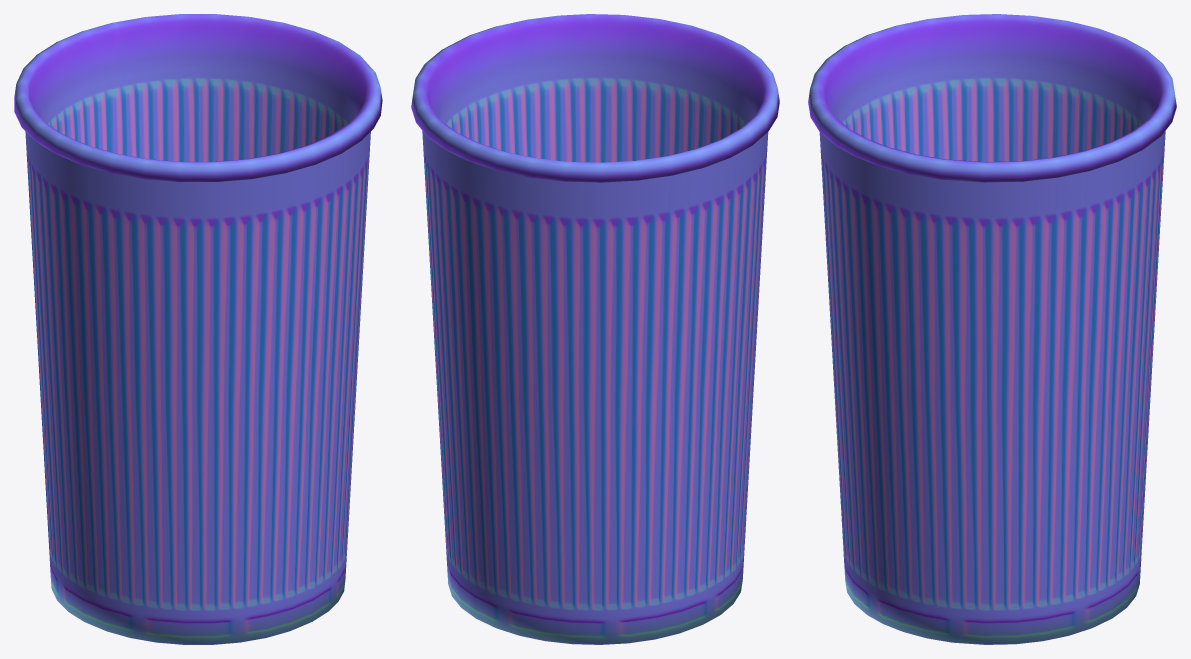
The model's file is Plastic_Cup.obj.
3 views of the same model, side by side, from view 1: azimuth 30°, elevation 25°; view 2: azimuth 150°, elevation 25°; view 3: azimuth 270°, elevation 25° (orthographic).
Visible parts, largest first — view 1: Plastic_Cup_plastic_cup_Lowpoly; view 2: Plastic_Cup_plastic_cup_Lowpoly; view 3: Plastic_Cup_plastic_cup_Lowpoly.
Boxes of the visible parts, x1,y1,x2,y2 form: Plastic_Cup_plastic_cup_Lowpoly: [14, 14, 382, 644]; Plastic_Cup_plastic_cup_Lowpoly: [411, 14, 779, 644]; Plastic_Cup_plastic_cup_Lowpoly: [808, 14, 1176, 644].
Size of the model in its own units: 1.54 by 2.29 by 1.54.
1 material, 1 textured.
